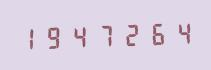four: (67, 21, 91, 50), (167, 17, 191, 46)
nine: (42, 22, 66, 51)
one: (17, 23, 41, 52)
seven: (92, 20, 116, 49)
six: (142, 18, 166, 47)
two: (117, 19, 141, 48)
